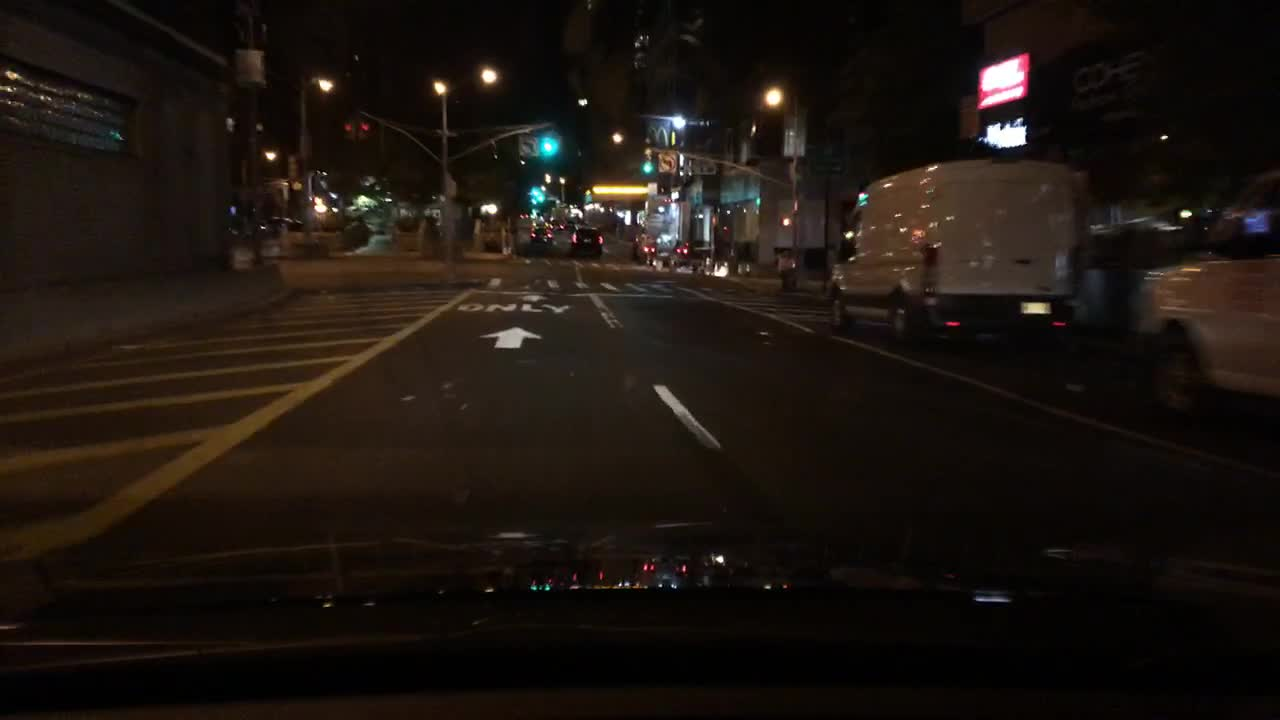car: (824, 158, 1080, 346), (1130, 170, 1278, 417), (254, 213, 304, 238), (570, 227, 603, 255), (653, 238, 688, 259), (527, 227, 554, 244), (636, 240, 656, 262)
traffic light: (643, 152, 653, 174), (542, 132, 551, 155), (358, 121, 367, 136), (346, 118, 352, 140), (781, 217, 794, 227), (530, 187, 539, 199)
traffic sign: (657, 153, 677, 173), (519, 137, 536, 153), (694, 162, 718, 172)
